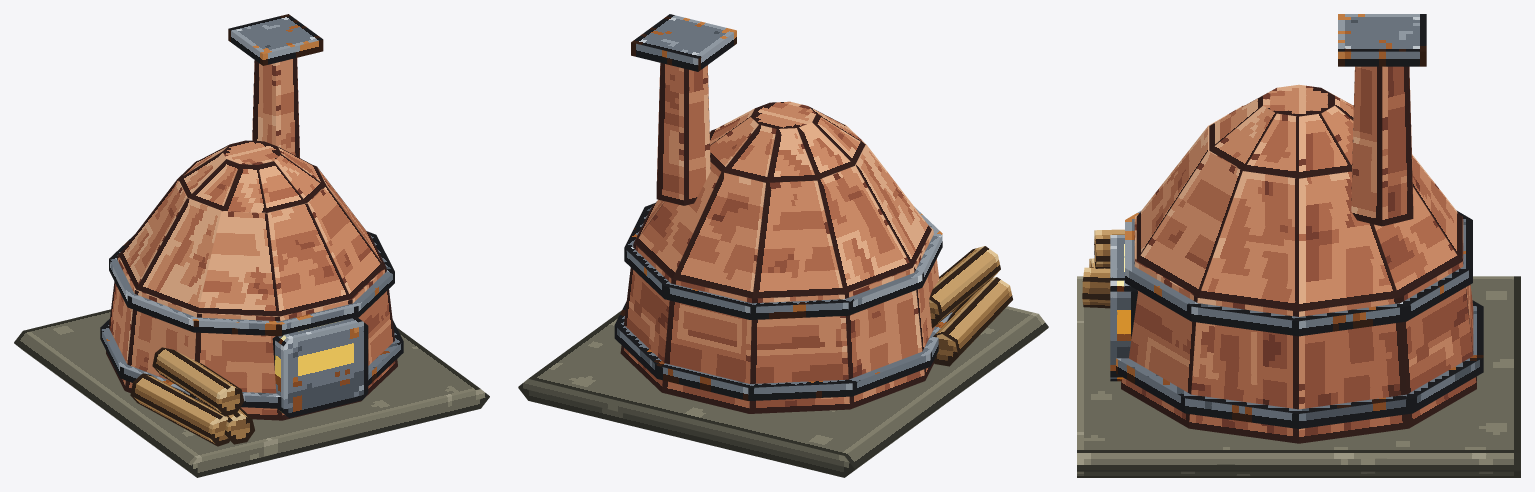
File: kiln.glb
3 renders of one model, left to right at view 1: azimuth 30°, elevation 25°; view 2: azimuth 150°, elevation 25°; view 3: azimuth 270°, elevation 25°, orthographic. The views are drawn at different scales.
Visible parts, largest first — view 1: dome, pad, base, door, crown, hoop2, chimney, log1, cap, log3, hoop1, log2; view 2: dome, pad, base, crown, chimney, hoop2, hoop1, cap, log1, log3; view 3: dome, pad, base, crown, chimney, hoop1, hoop2, cap, door, log2, log3.
Boxes of the visible parts, x1,y1,x2,y2 form: dome: (119, 160, 384, 316); pad: (14, 309, 489, 477); base: (106, 232, 397, 420); door: (272, 317, 368, 417); crown: (178, 140, 325, 212); hoop2: (109, 231, 394, 336); chimney: (252, 58, 299, 157); log1: (130, 373, 229, 446); cap: (228, 14, 323, 65); log3: (152, 347, 244, 416); hoop1: (100, 319, 403, 408); log2: (198, 399, 254, 444); dome: (635, 124, 931, 297); pad: (518, 306, 1048, 477); base: (620, 204, 939, 413); crown: (710, 101, 865, 182); chimney: (656, 63, 710, 205); hoop2: (624, 203, 942, 319); hoop1: (614, 301, 952, 400); cap: (631, 14, 736, 71); log1: (933, 277, 1012, 366); log3: (929, 246, 1000, 328); dome: (1136, 105, 1461, 310); pad: (1077, 276, 1520, 477); base: (1121, 215, 1476, 443); crown: (1209, 84, 1353, 177); chimney: (1351, 66, 1413, 226); hoop1: (1116, 300, 1483, 428); hoop2: (1125, 210, 1472, 336); cap: (1338, 14, 1426, 66); door: (1110, 235, 1137, 381); log2: (1082, 267, 1110, 308); log3: (1094, 229, 1124, 268).
Bounding box in the file's own units: 32 × 31.2 × 32.
1 material, 1 textured.
